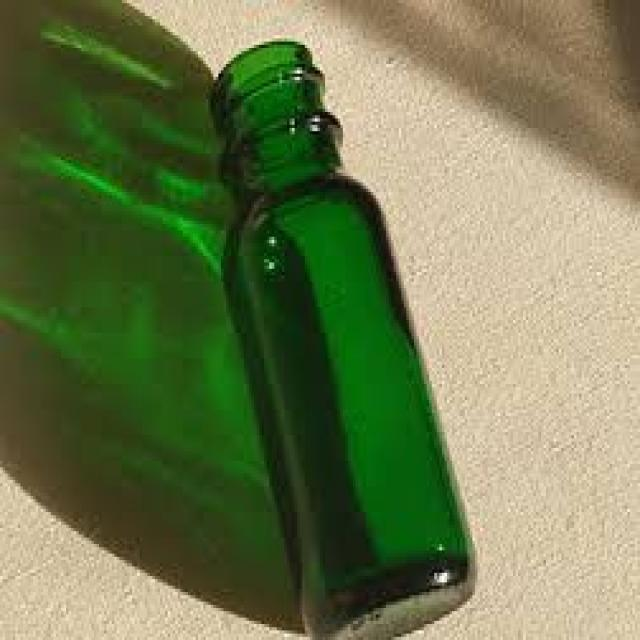glass: (208, 35, 475, 637)
